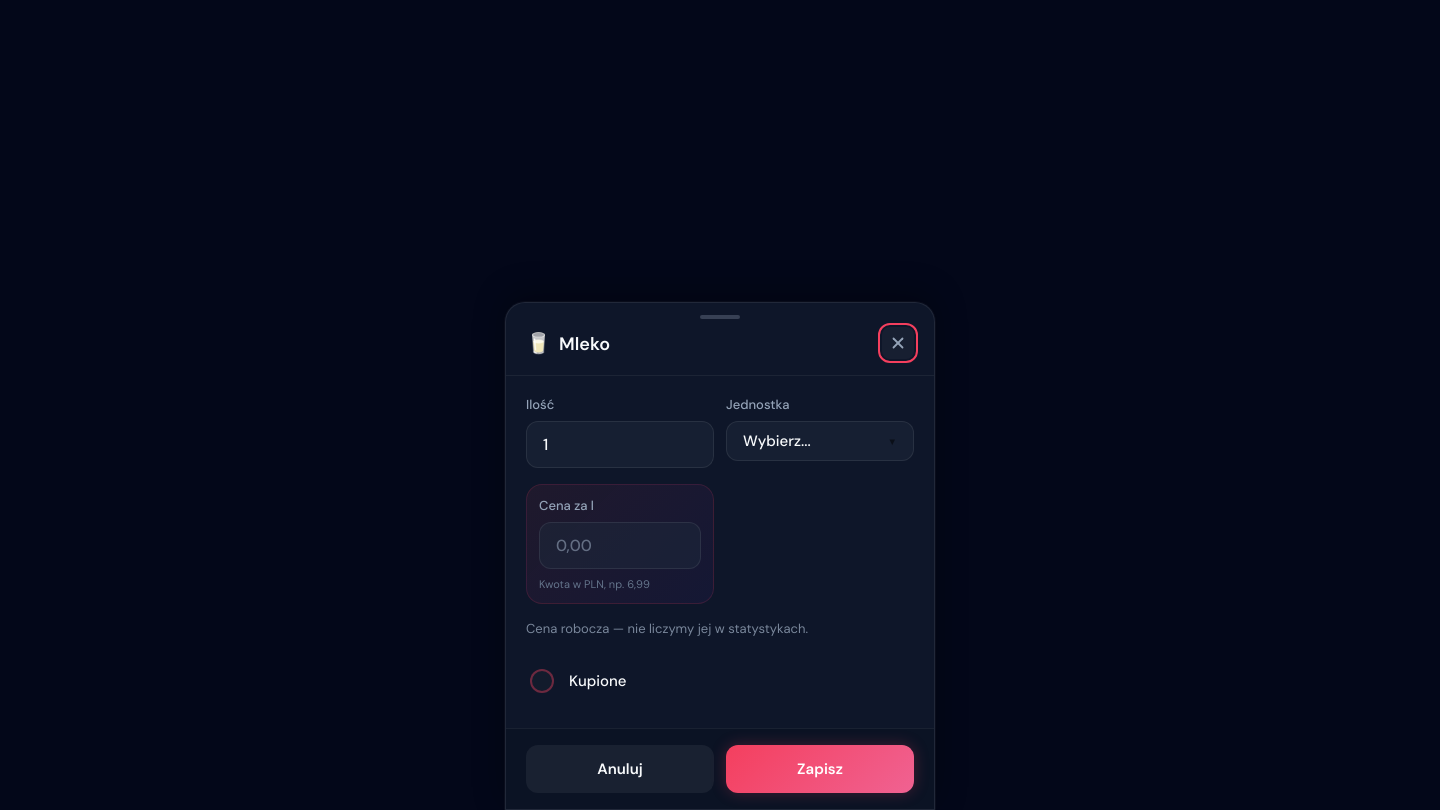
Test: ItemBottomSheet › Loading states › should disable buttons while saving
Click the button "Zapisz" at (820, 769), box top-left (726, 745), bottom-right (914, 793)
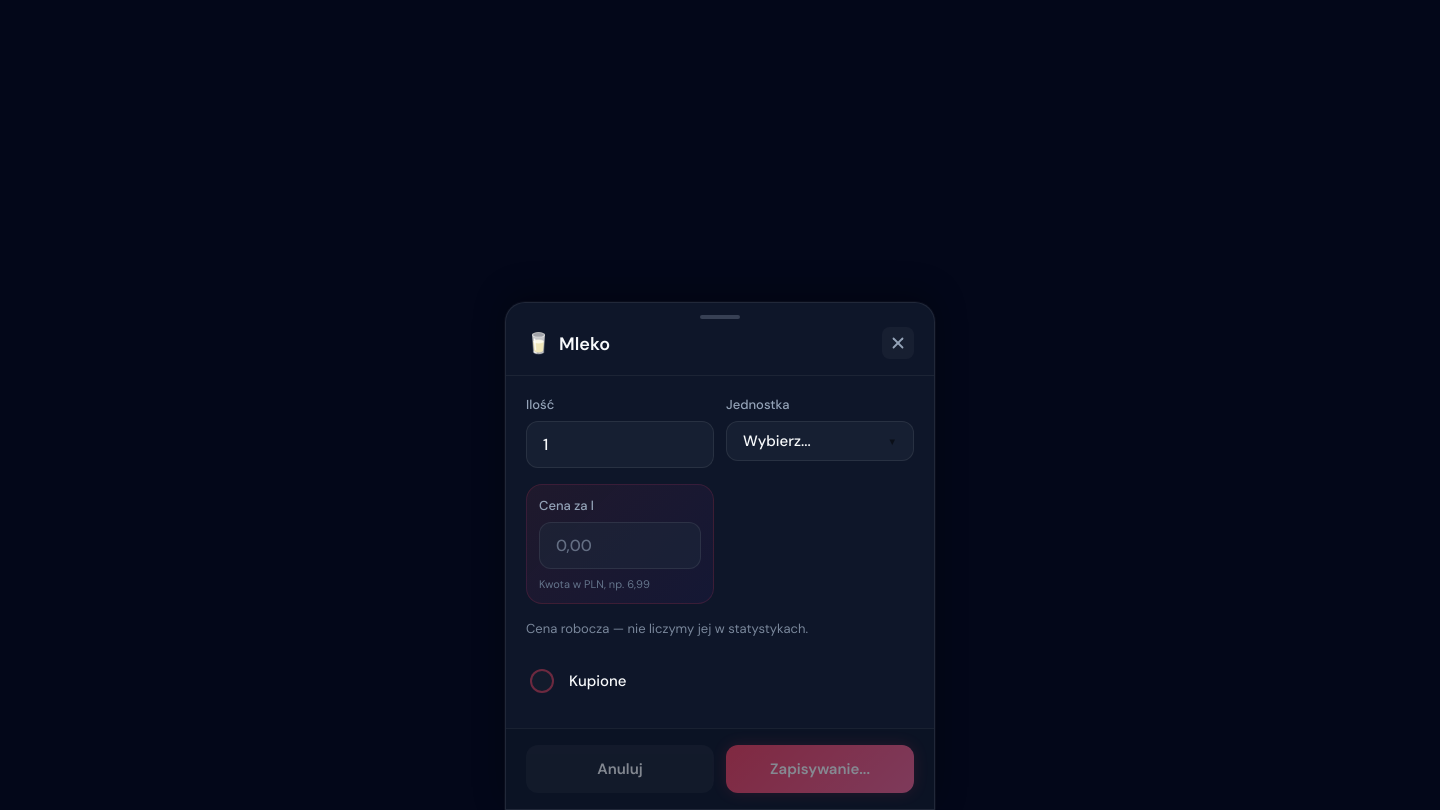
Check: the button named "Zapisz" reads "Zapisywanie...", box top-left (726, 745), bottom-right (914, 793)
Check: the button named "Zapisz" is disabled, box top-left (726, 745), bottom-right (914, 793)
Check: the button "Anuluj" is disabled, box top-left (526, 745), bottom-right (714, 793)
